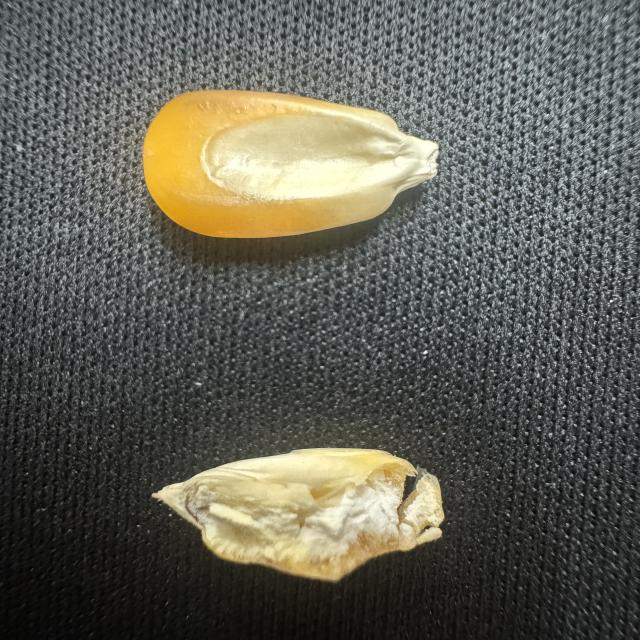Bad-Seed: (148, 440, 466, 588)
Good-Seed: (132, 83, 448, 259)
